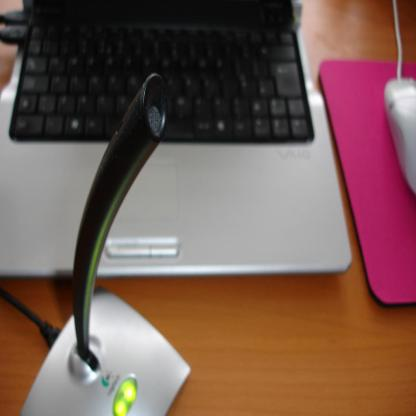board: (0, 0, 349, 275)
